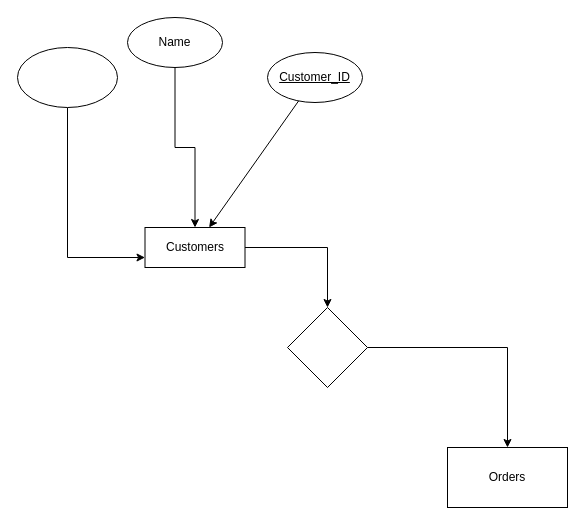
Image size: 585x525. Some labels were removed from this diagram. The shapes that lost their labels are listed below. From the top down, each one's centre as x and y in pixels, then its label:
(x=67, y=77): Email
(x=327, y=347): HAS
